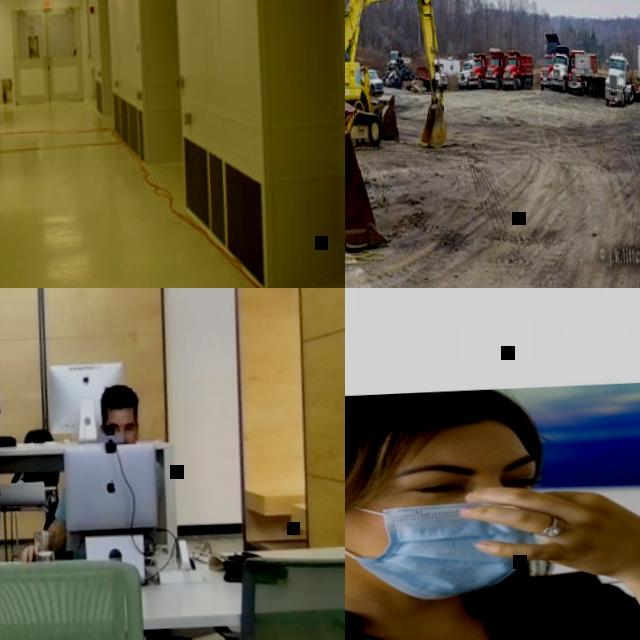Hardhat: (366, 66, 369, 69)
Mask: (345, 485, 545, 607)
NO-Hardhat: (345, 383, 539, 463), (99, 381, 141, 420)
NO-Safety Vest: (345, 571, 629, 640)
Person: (345, 374, 640, 640), (11, 380, 150, 563), (365, 66, 373, 102)
Safety Vest: (366, 73, 371, 86)
vehicle: (345, 0, 452, 154), (603, 47, 640, 109), (538, 31, 564, 90), (503, 47, 535, 91), (550, 43, 575, 94), (486, 46, 511, 90), (418, 59, 449, 92), (567, 48, 589, 92), (469, 51, 493, 90), (360, 63, 384, 95), (458, 51, 477, 87), (387, 49, 412, 76)
